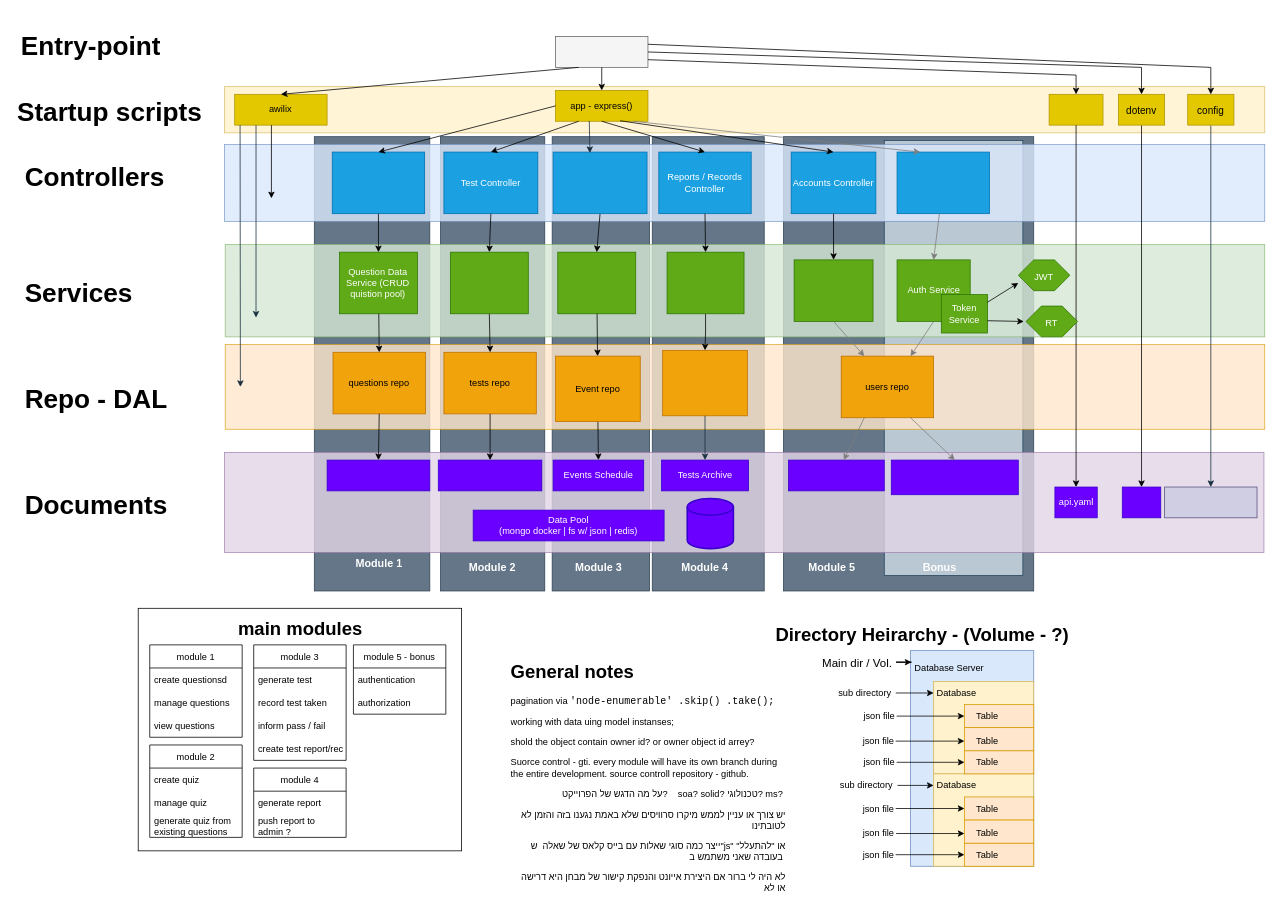
Image size: 1278x916. Some labels were removed from this diagram. Each missing label, with the centre of its shape:
".env" goes at [1141,502].
"Account Service" goes at [833,290].
"accounts credentials (identity user)" goes at [954,477].
"accounts stored data" goes at [836,475].
"autthentication and authorization Controller" goes at [942,182].
"config/default.json" goes at [1210,502].
"Event Controller" goes at [599,182].
"index - entry point" goes at [601,51].
"question pool" goes at [378,475].
"Questions controller" goes at [378,182].
"Quiz Service ( generate url, start quiz event)" goes at [596,282].
"quizes pool" goes at [490,475].
"Record repo" goes at [704,383].
"Report Service ( get quiz records for tests taken )" goes at [705,282].
"swaggert-ui" goes at [1075,109].
"Test Data Service (CRUD test pool)" goes at [489,282].
